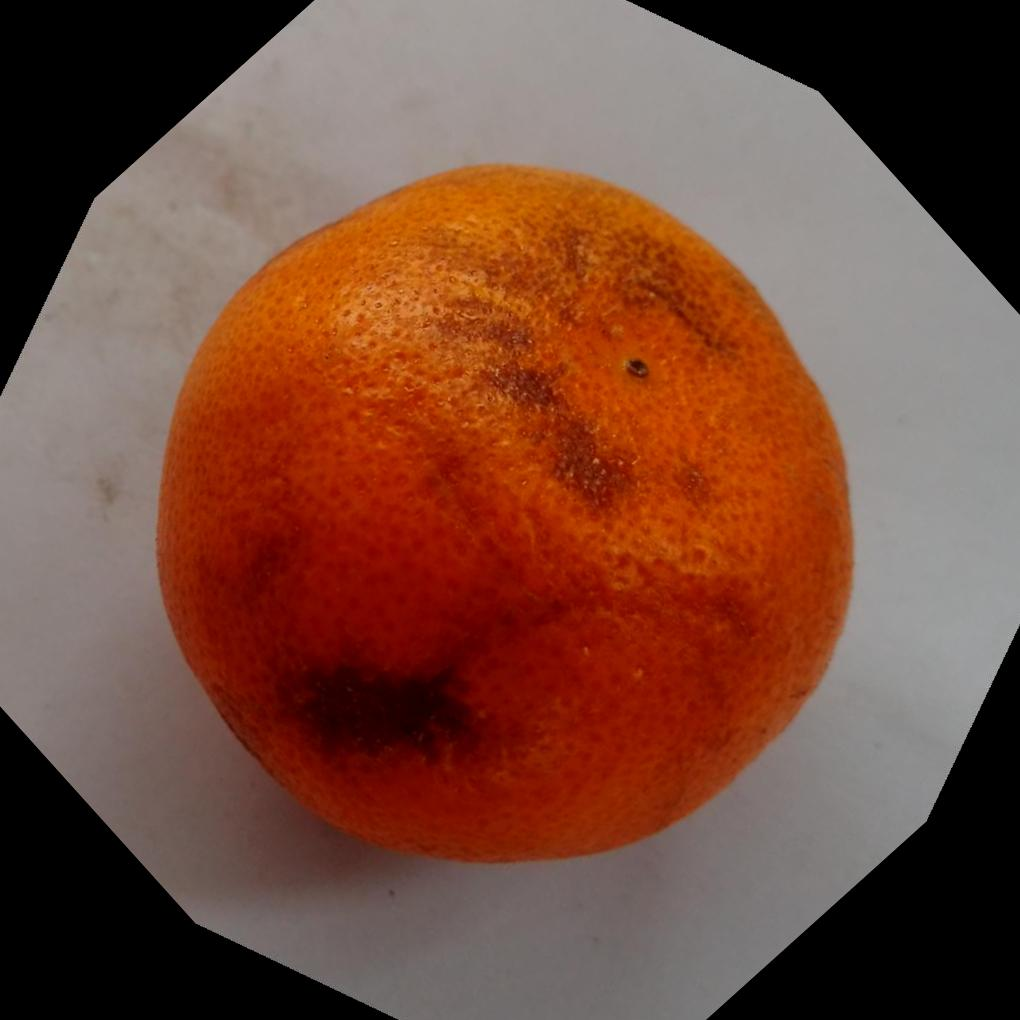FreshOrange: (155, 162, 860, 870)
